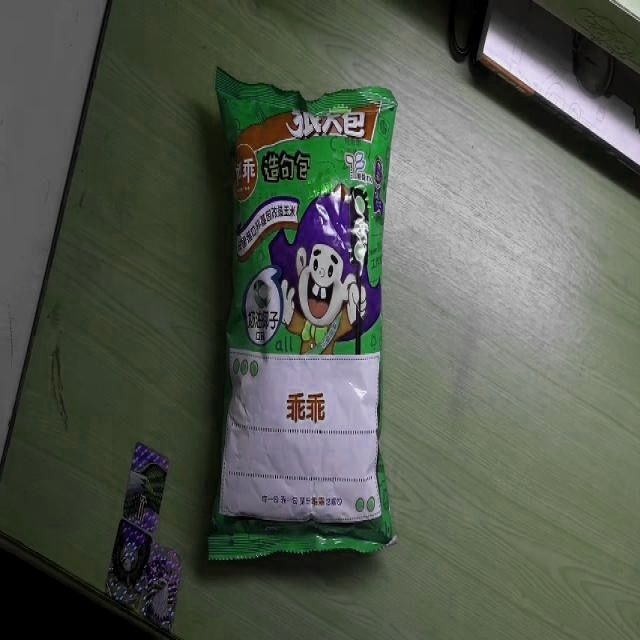Good-Luck: (207, 65, 399, 562)
